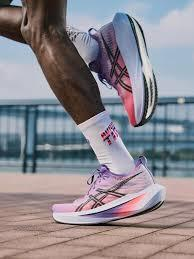asics logo: (71, 168, 146, 213), (97, 27, 136, 95)
